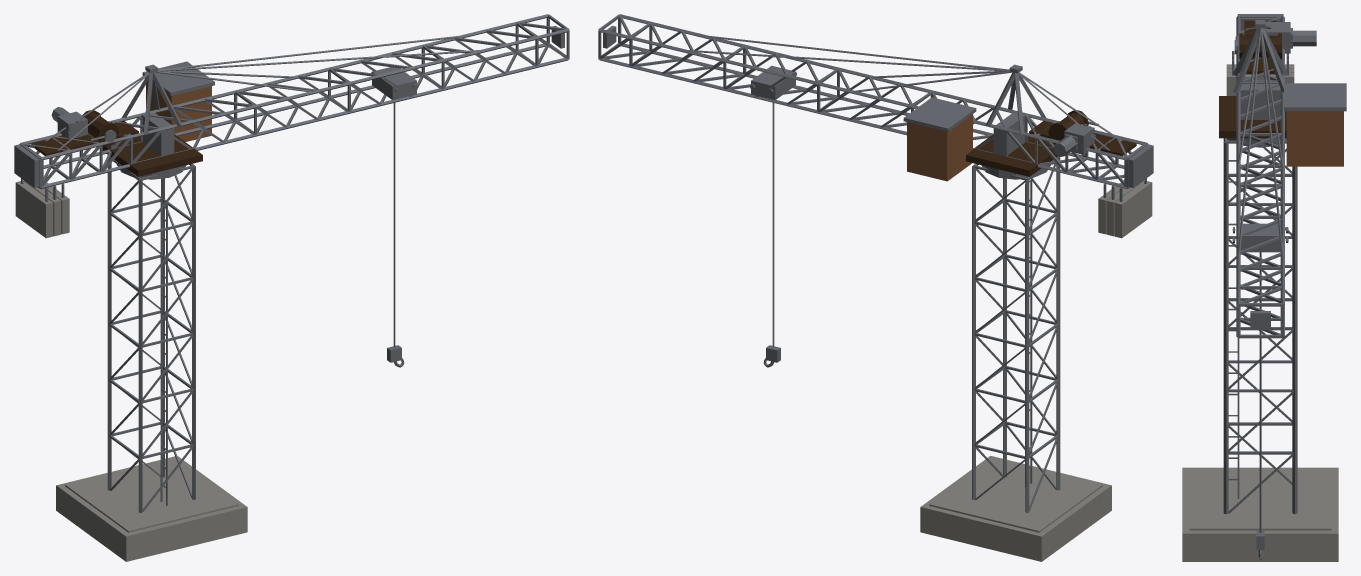
File: SN_Harbor_Crane.glb
3 views of the same model, side by side, from view 1: azimuth 30°, elevation 25°; view 2: azimuth 150°, elevation 25°; view 3: azimuth 270°, elevation 25° (orthographic). The views are drawn at different scales.
Parts seen in each view (by area): view 1: SN_Crane_Base_Courses, SN_Crane_Base, SN_Crane_Jib_Chords, SN_Crane_Tower_Posts, SN_Crane_Jib_Lattice, SN_Crane_Tower_Braces, SN_Crane_Tower_Rings, SN_Crane_Tie_Rods, SN_Crane_Counterweights, SN_Crane_Slew_Platform, SN_Crane_Cab, SN_Crane_Jib_Verticals (+12 smaller); view 2: SN_Crane_Base_Courses, SN_Crane_Base, SN_Crane_Tower_Posts, SN_Crane_Jib_Chords, SN_Crane_Jib_Lattice, SN_Crane_Tower_Braces, SN_Crane_Cab, SN_Crane_Tower_Rings, SN_Crane_Tie_Rods, SN_Crane_Counterweights, SN_Crane_Slew_Platform, SN_Crane_Cab_Roof (+12 smaller); view 3: SN_Crane_Base_Courses, SN_Crane_Base, SN_Crane_Tower_Posts, SN_Crane_Jib_Lattice, SN_Crane_Cab, SN_Crane_Jib_Chords, SN_Crane_Tie_Rods, SN_Crane_Tower_Braces, SN_Crane_Cab_Roof, SN_Crane_Tower_Rings, SN_Crane_Jib_Verticals, SN_Crane_Slew_Platform (+14 smaller).
Part boxes in pixels (x1=…): SN_Crane_Base_Courses: x1=65, y1=458, x2=238, y2=532; SN_Crane_Base: x1=56, y1=456, x2=247, y2=561; SN_Crane_Jib_Chords: x1=142, y1=14, x2=568, y2=153; SN_Crane_Tower_Posts: x1=107, y1=159, x2=195, y2=512; SN_Crane_Jib_Lattice: x1=143, y1=22, x2=567, y2=149; SN_Crane_Tower_Braces: x1=109, y1=168, x2=192, y2=511; SN_Crane_Tower_Rings: x1=109, y1=157, x2=194, y2=458; SN_Crane_Tie_Rods: x1=45, y1=35, x2=479, y2=150; SN_Crane_Counterweights: x1=15, y1=178, x2=69, y2=238; SN_Crane_Slew_Platform: x1=102, y1=134, x2=202, y2=176; SN_Crane_Cab: x1=146, y1=80, x2=211, y2=141; SN_Crane_Jib_Verticals: x1=140, y1=14, x2=569, y2=154; SN_Crane_Base_Courses: x1=929, y1=458, x2=1102, y2=532; SN_Crane_Base: x1=920, y1=455, x2=1111, y2=561; SN_Crane_Tower_Posts: x1=972, y1=157, x2=1060, y2=512; SN_Crane_Jib_Chords: x1=599, y1=14, x2=1025, y2=153; SN_Crane_Jib_Lattice: x1=598, y1=15, x2=1006, y2=149; SN_Crane_Tower_Braces: x1=975, y1=159, x2=1058, y2=510; SN_Crane_Cab: x1=907, y1=114, x2=972, y2=181; SN_Crane_Tower_Rings: x1=973, y1=156, x2=1058, y2=458; SN_Crane_Tie_Rods: x1=688, y1=35, x2=1122, y2=150; SN_Crane_Counterweights: x1=1098, y1=178, x2=1152, y2=238; SN_Crane_Slew_Platform: x1=966, y1=134, x2=1057, y2=176; SN_Crane_Cab_Roof: x1=903, y1=97, x2=976, y2=131; SN_Crane_Base_Courses: x1=1189, y1=468, x2=1331, y2=530; SN_Crane_Base: x1=1182, y1=467, x2=1338, y2=561; SN_Crane_Tower_Posts: x1=1223, y1=138, x2=1297, y2=514; SN_Crane_Jib_Lattice: x1=1239, y1=83, x2=1281, y2=334; SN_Crane_Cab: x1=1286, y1=111, x2=1343, y2=166; SN_Crane_Jib_Chords: x1=1236, y1=89, x2=1284, y2=337; SN_Crane_Tie_Rods: x1=1238, y1=26, x2=1283, y2=256; SN_Crane_Tower_Braces: x1=1228, y1=147, x2=1293, y2=513; SN_Crane_Cab_Roof: x1=1284, y1=83, x2=1346, y2=111; SN_Crane_Tower_Rings: x1=1225, y1=138, x2=1293, y2=454; SN_Crane_Jib_Verticals: x1=1237, y1=82, x2=1283, y2=338; SN_Crane_Slew_Platform: x1=1219, y1=96, x2=1286, y2=138.
Size of the model in its own units: 26.5 by 21.47 by 6.3.
